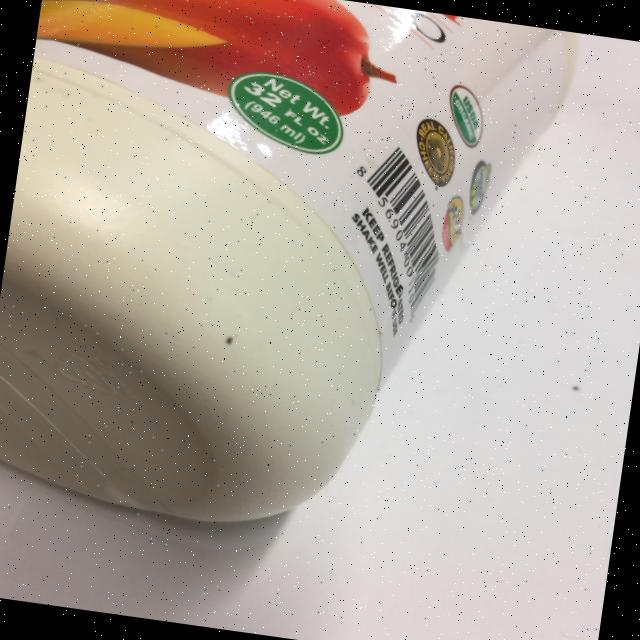plastic: (0, 0, 577, 565)
